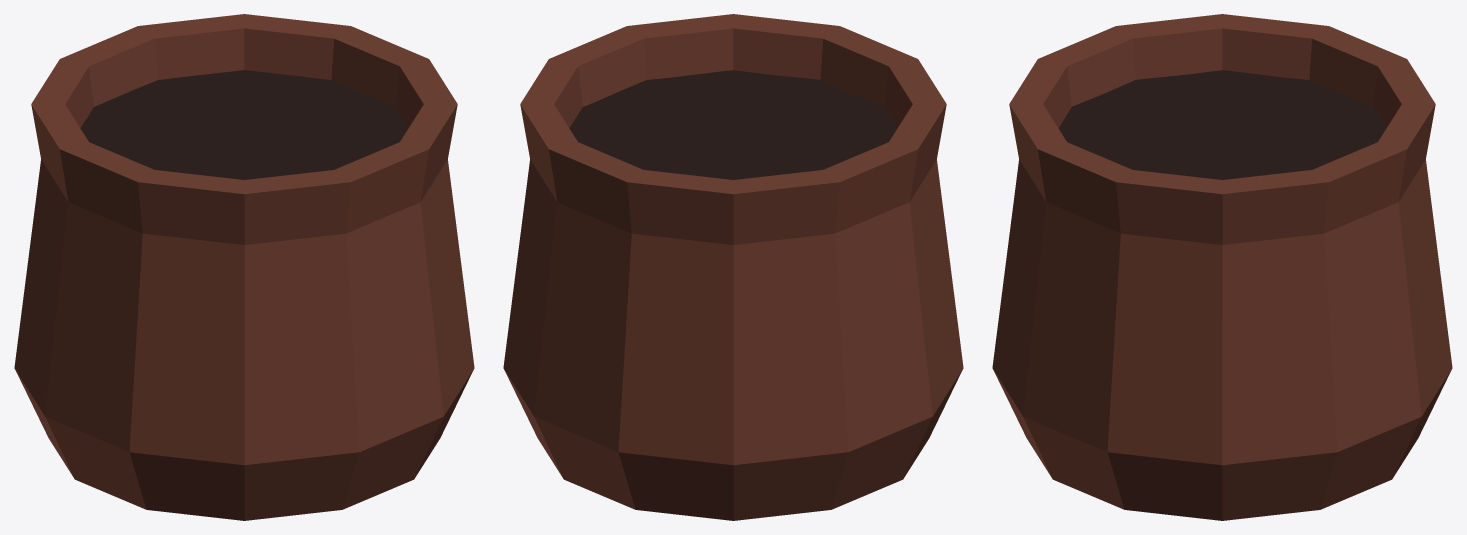
Rendered from MBJ_PlantPack01_Pot02_LOD2_v001.fbx.
3 views of the same model, side by side, from view 1: azimuth 30°, elevation 25°; view 2: azimuth 150°, elevation 25°; view 3: azimuth 270°, elevation 25° (orthographic).
Parts seen in each view (by area): view 1: PlantPot02_B.001; view 2: PlantPot02_B.001; view 3: PlantPot02_B.001.
Part boxes in pixels (box(x1,y1,x2,y2)): PlantPot02_B.001: box(14, 14, 474, 520); PlantPot02_B.001: box(503, 14, 963, 520); PlantPot02_B.001: box(992, 14, 1452, 520).
Bounding box in the file's own units: 57.37 × 45.96 × 57.37.
